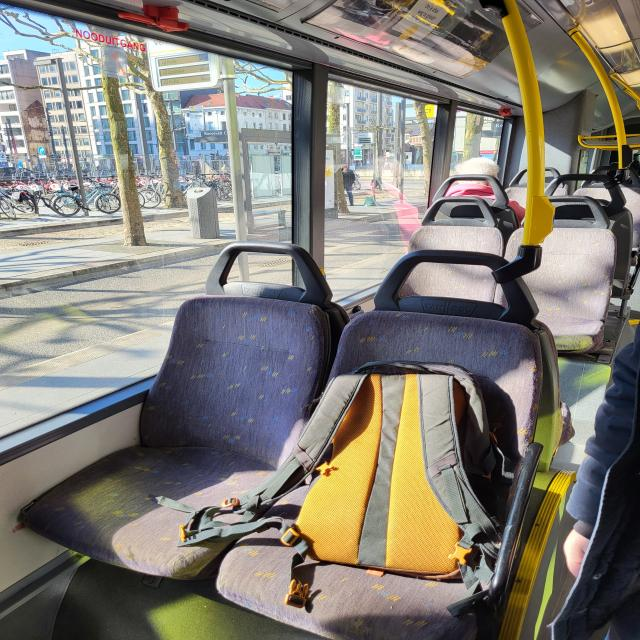empty-seat-frontal: (14, 242, 345, 584), (501, 198, 610, 358)
